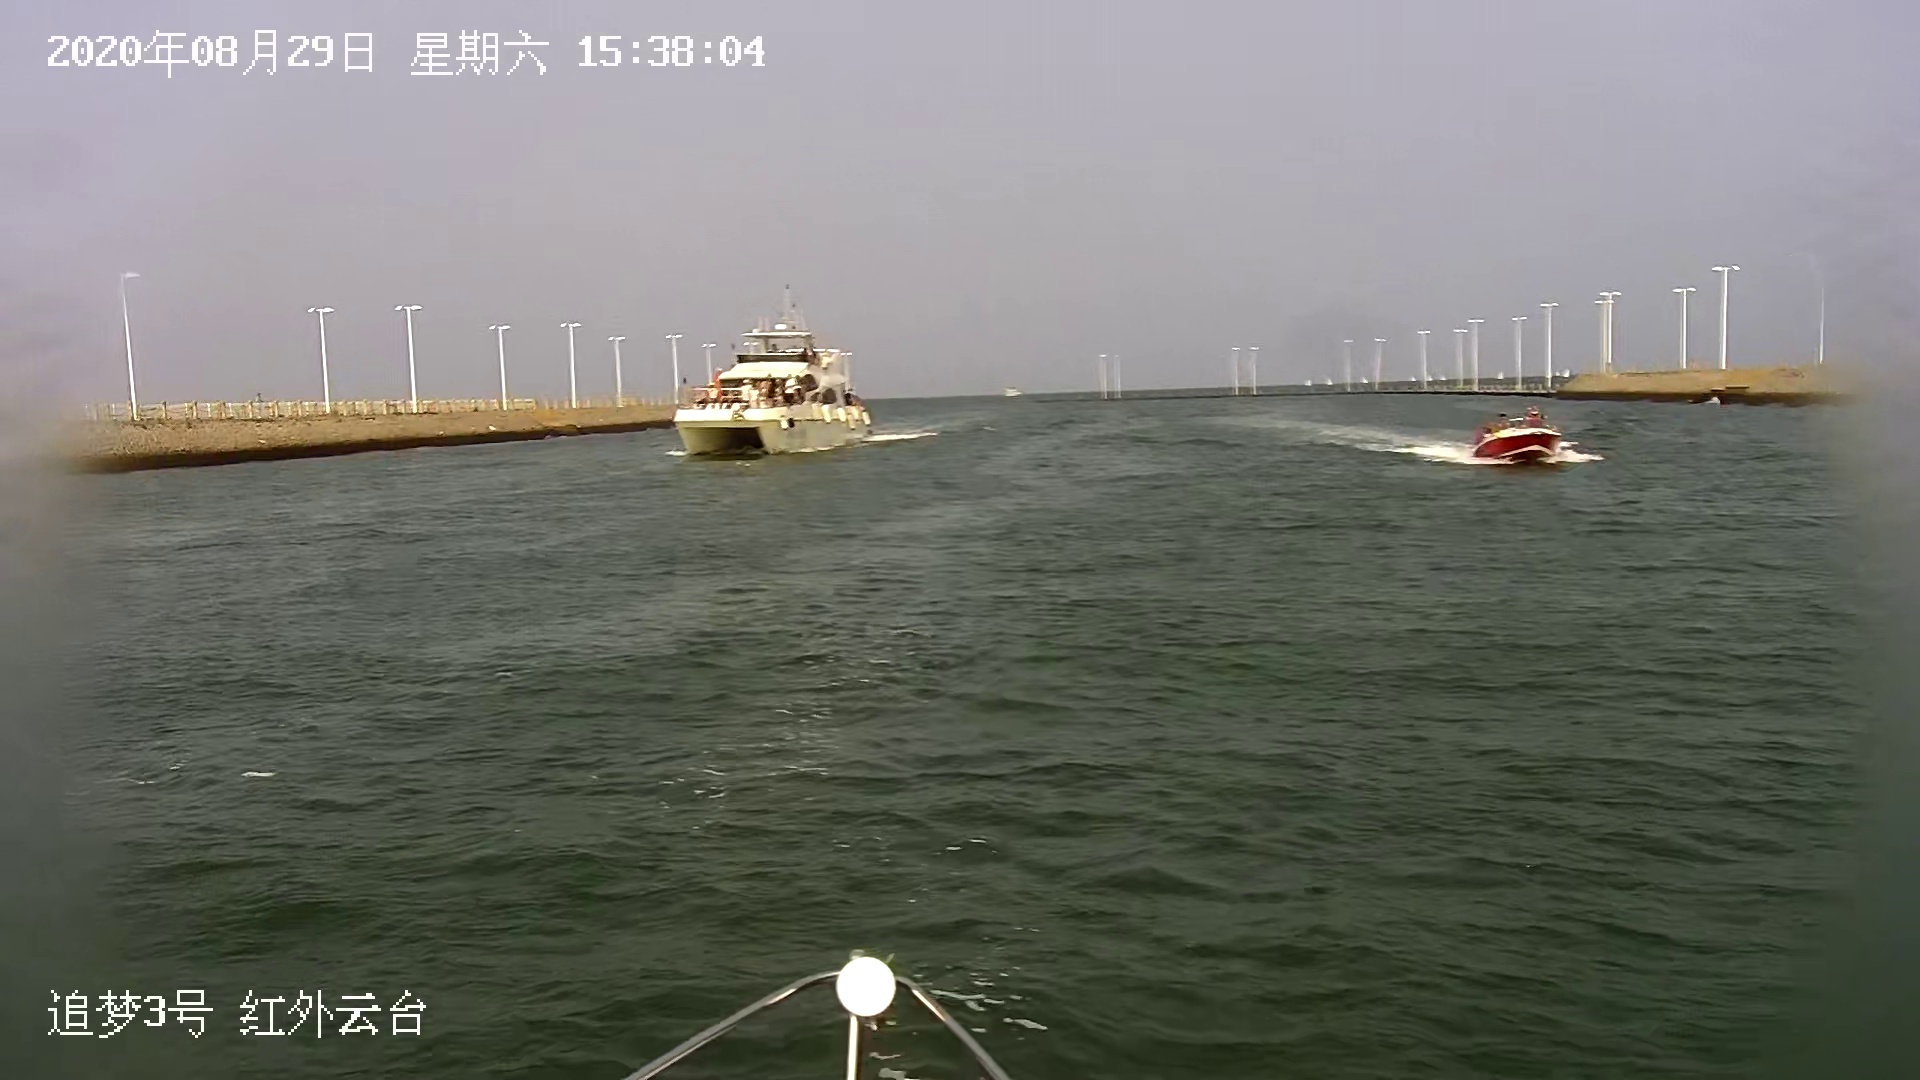barrier: (679, 268, 884, 462), (1476, 404, 1571, 462), (998, 378, 1022, 400)
coast: (1007, 240, 1908, 415), (34, 270, 707, 477)
